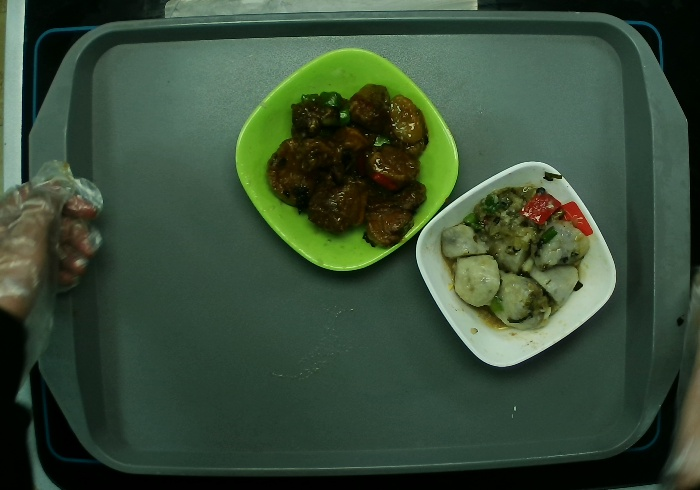SHKJ-Bai_Se_Xiao_Fang_Die: (412, 161, 618, 367)
SHKJ-Lv_Se_Cai_Die: (232, 46, 461, 272)
